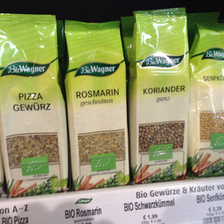spices: (1, 12, 69, 195), (64, 18, 134, 191), (130, 6, 189, 181), (189, 23, 224, 177)
